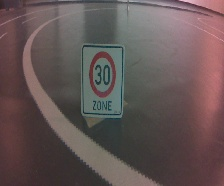zone 30 sign: (79, 42, 125, 120)
